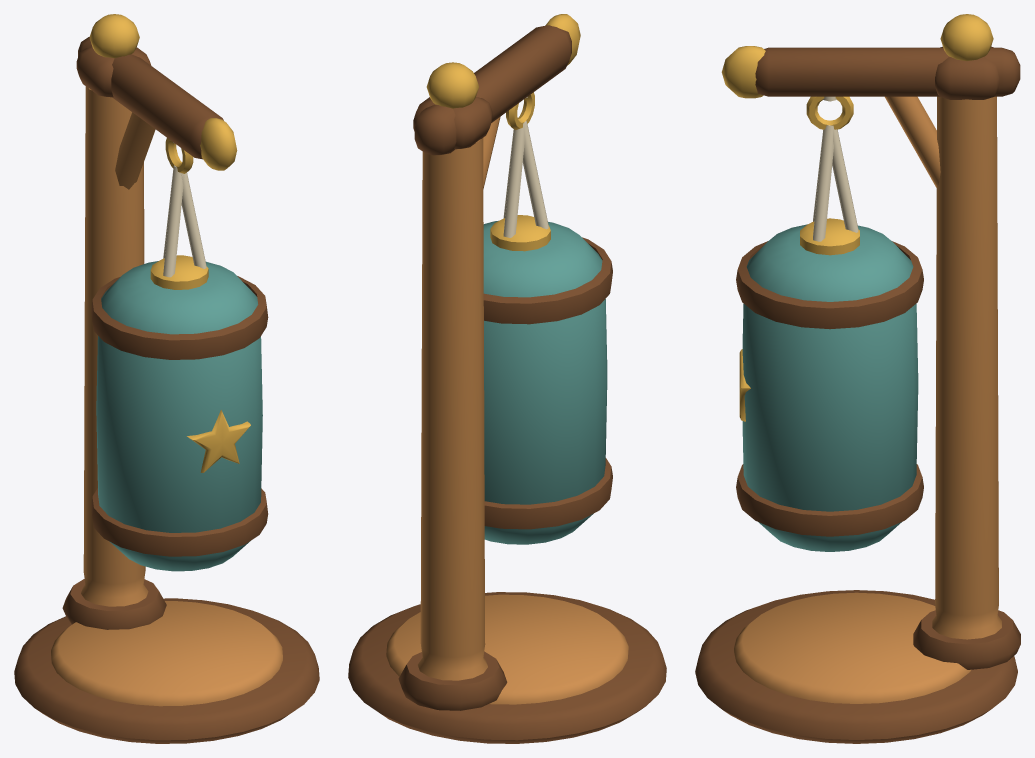
The model's file is ShopPunchBag.fbx.
3 views of the same model, side by side, from view 1: azimuth 30°, elevation 25°; view 2: azimuth 150°, elevation 25°; view 3: azimuth 270°, elevation 25° (orthographic). The views are drawn at different scales.
Parts seen in each view (by area): view 1: ShopPunchBag; view 2: ShopPunchBag; view 3: ShopPunchBag.
Part boxes in pixels (x1,y1,x2,y2): ShopPunchBag: [14, 14, 319, 743]; ShopPunchBag: [348, 14, 666, 743]; ShopPunchBag: [695, 14, 1020, 743].
Size of the model in its own units: 0.79 by 1.79 by 0.7966.
